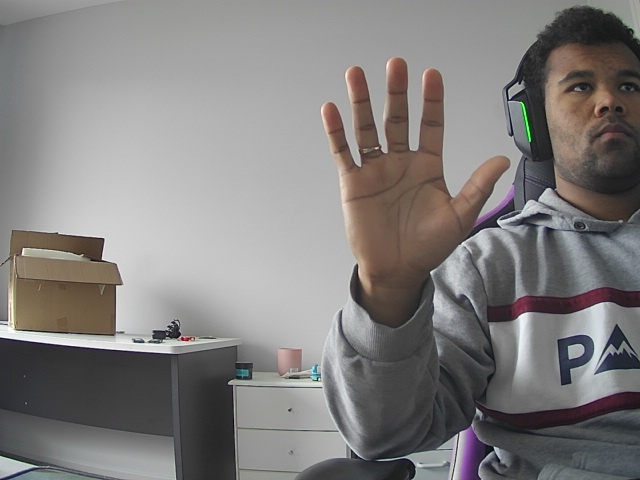Hello: (301, 44, 514, 321)
